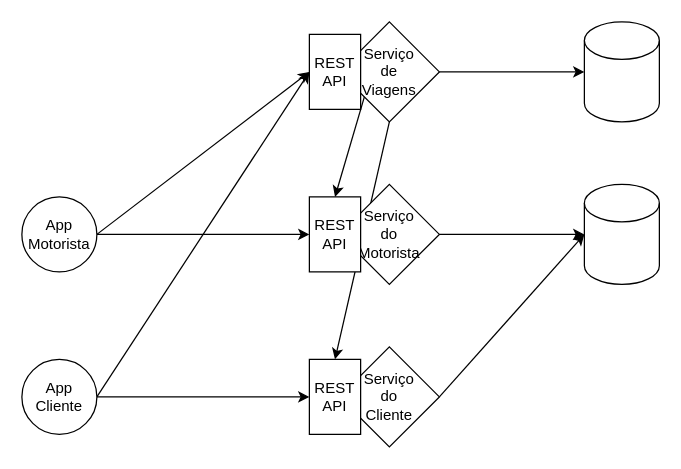
Some shapes in this 681 by 469 pixel diagram are drawn without their labels. Each missing label, with the box of its shape:
Banco Usuários: (583, 183, 659, 284)
Banco Viagens: (583, 21, 659, 122)
